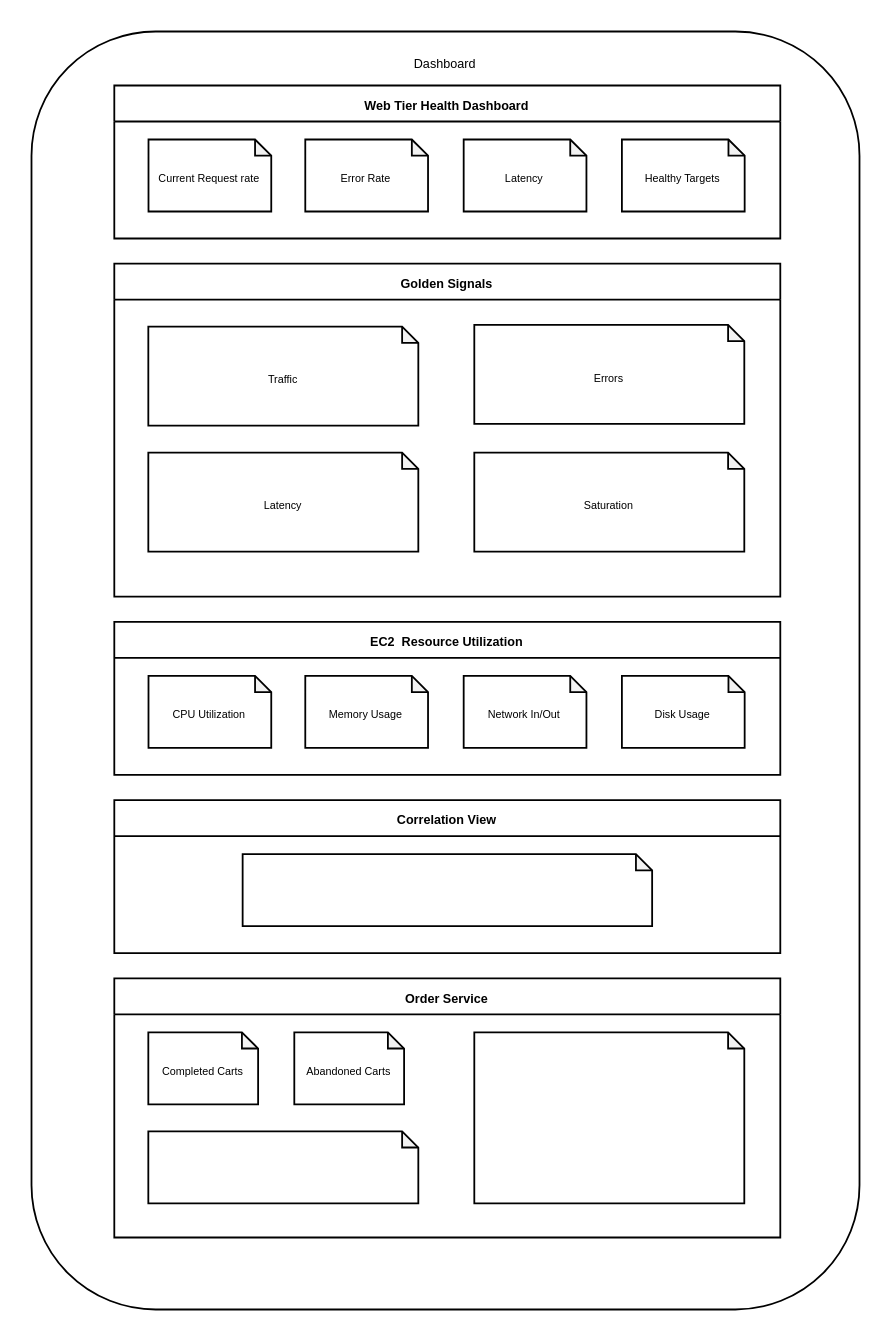
The diagram is 891 pixels wide and 1341 high, and some of its shapes have lost their labels. The shapes that lost their labels are listed below. From the top down, each one's centre as x and y in pixels, then its label:
At (446,889): "Latency vs Request Rate vs Error Rate vs CPU".
At (608,1116): "Abandonment Rate".
At (282,1166): "Total Carts".
